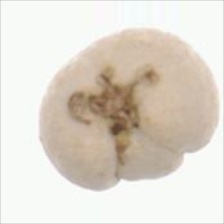L5: (67, 63, 162, 159), (110, 119, 188, 185)
L6: (36, 27, 222, 193)
